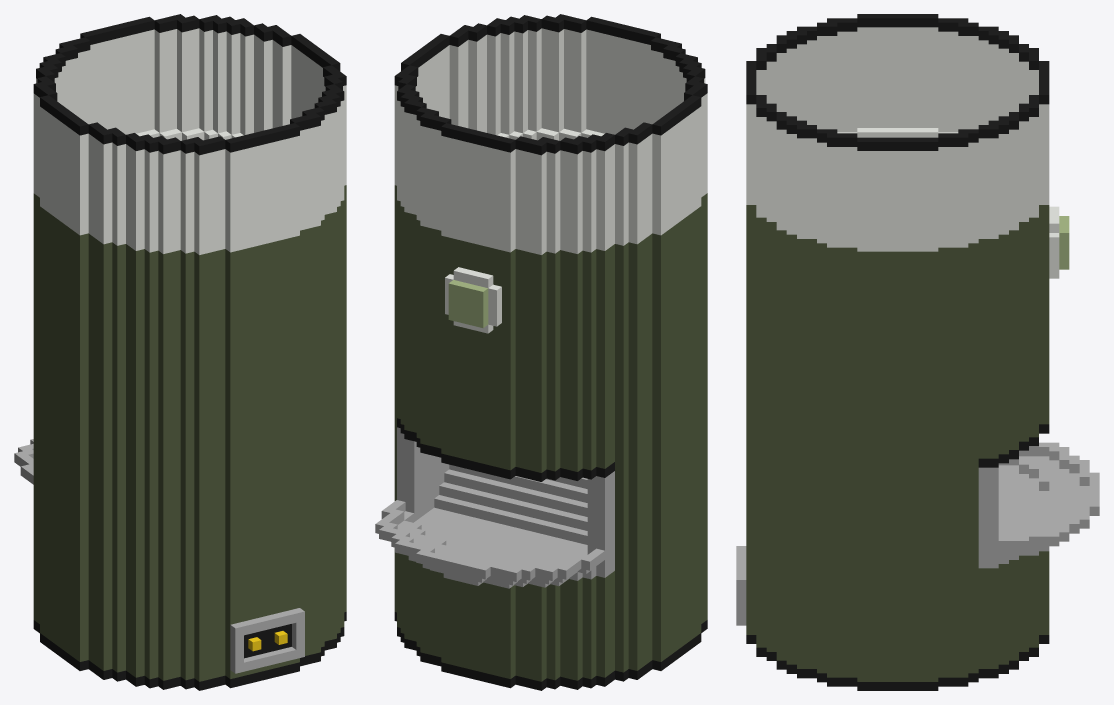
File: CoffeeCoffeeCoffeeGrinder.fbx
3 views of the same model, side by side, from view 1: azimuth 30°, elevation 25°; view 2: azimuth 150°, elevation 25°; view 3: azimuth 270°, elevation 25° (orthographic).
Parts seen in each view (by area): view 1: CoffeeGrinder; view 2: CoffeeGrinder, CG_Button; view 3: CoffeeGrinder, CG_Button.
Boxes of the visible parts, box(x1,y1,x2,y2) form: CoffeeGrinder: box(14, 14, 346, 690); CoffeeGrinder: box(375, 14, 707, 690); CG_Button: box(448, 280, 488, 327); CoffeeGrinder: box(736, 14, 1099, 690); CG_Button: box(1059, 216, 1069, 269).
Bounding box in the file's own units: 3 × 6 × 3.6.
Materials: 1 (1 with a texture image).
